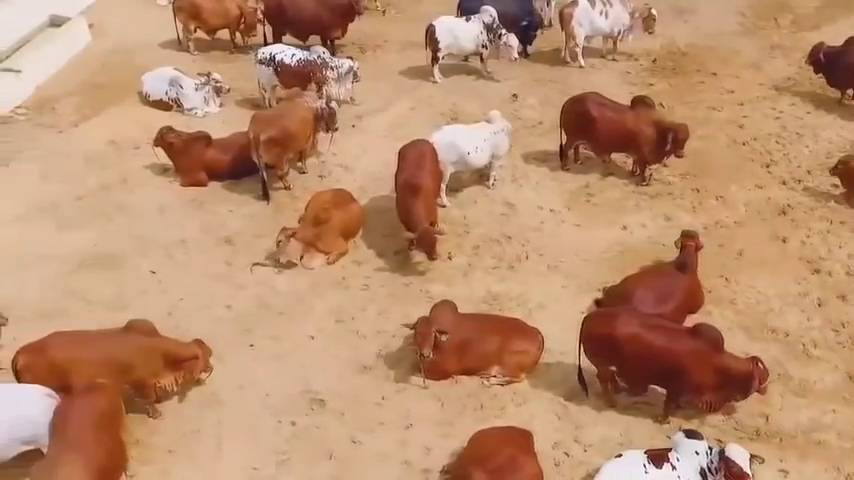bo: (566, 299, 769, 428), (13, 316, 215, 417), (407, 287, 544, 402), (548, 81, 693, 189), (238, 72, 347, 197), (592, 209, 712, 320), (263, 169, 372, 278), (579, 418, 773, 479), (30, 379, 134, 480), (424, 99, 514, 204), (553, 1, 669, 79), (424, 4, 528, 91), (387, 132, 448, 274), (144, 116, 248, 192), (257, 40, 365, 107), (437, 421, 557, 480), (257, 3, 374, 54), (142, 60, 234, 123), (2, 370, 60, 461), (164, 1, 249, 63), (457, 1, 540, 61), (802, 29, 854, 110), (824, 142, 854, 196)
